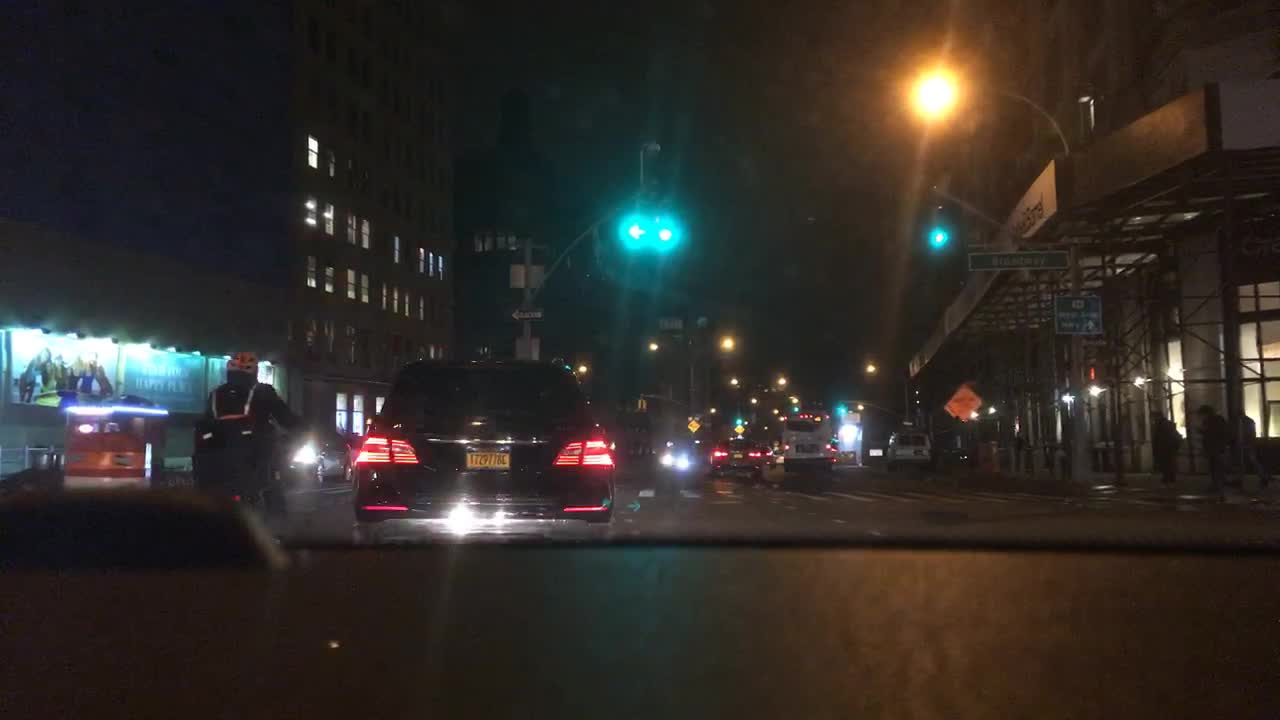bike: (214, 484, 288, 525)
bus: (780, 410, 829, 471)
car: (352, 359, 616, 540), (282, 424, 349, 487), (882, 429, 932, 468), (708, 438, 760, 473), (658, 448, 697, 468), (935, 448, 967, 467), (830, 448, 854, 465), (771, 442, 787, 464), (754, 445, 769, 464)
person: (1228, 407, 1266, 495), (1196, 401, 1230, 493), (1149, 409, 1183, 484)
rider: (189, 351, 307, 484)
traffic light: (656, 210, 675, 250), (929, 206, 945, 244), (628, 203, 642, 244), (1086, 365, 1095, 384), (791, 399, 801, 413), (838, 396, 845, 415), (733, 413, 741, 426)
traffic sign: (967, 250, 1070, 269), (1053, 293, 1103, 332), (948, 385, 979, 423), (511, 263, 547, 285), (512, 341, 540, 360), (512, 305, 540, 322), (685, 417, 699, 432), (732, 426, 744, 435)
